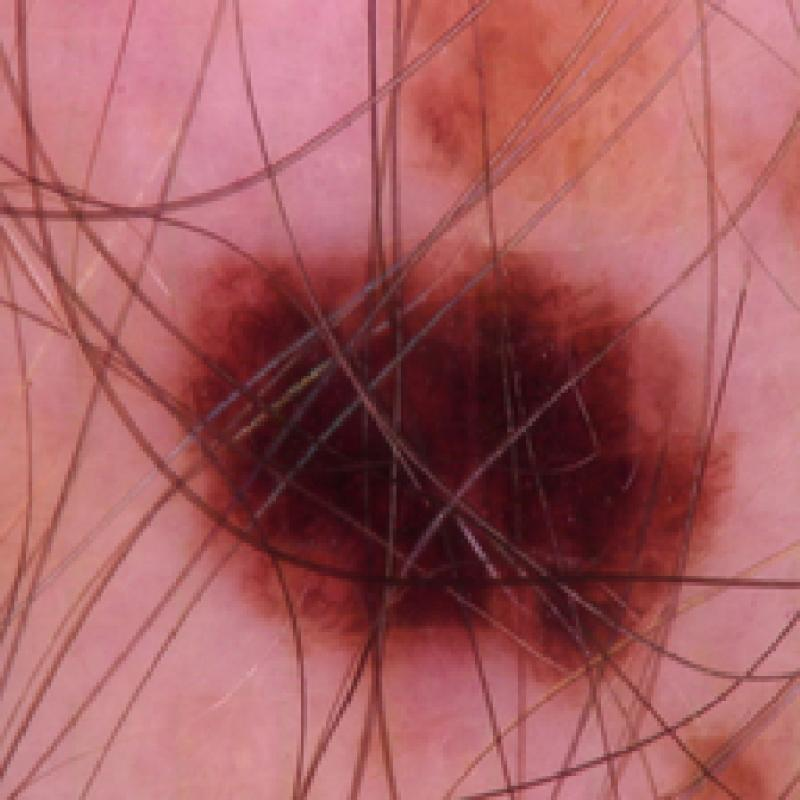benign: (150, 211, 746, 704)
